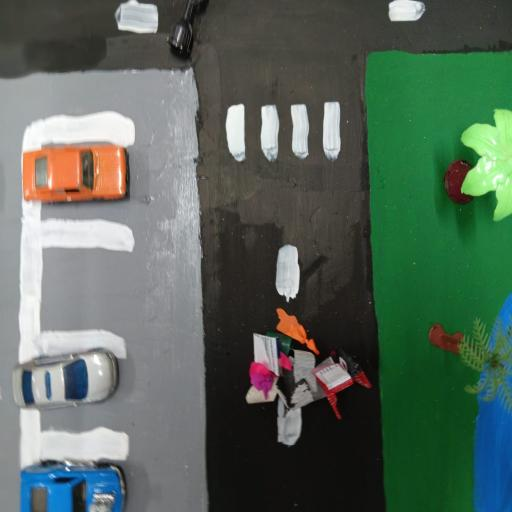fallen trees: (164, 0, 211, 75)
trash: (242, 304, 376, 460)
